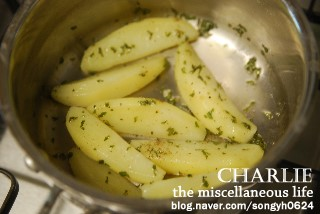boiled potatoes: (71, 26, 243, 185)
